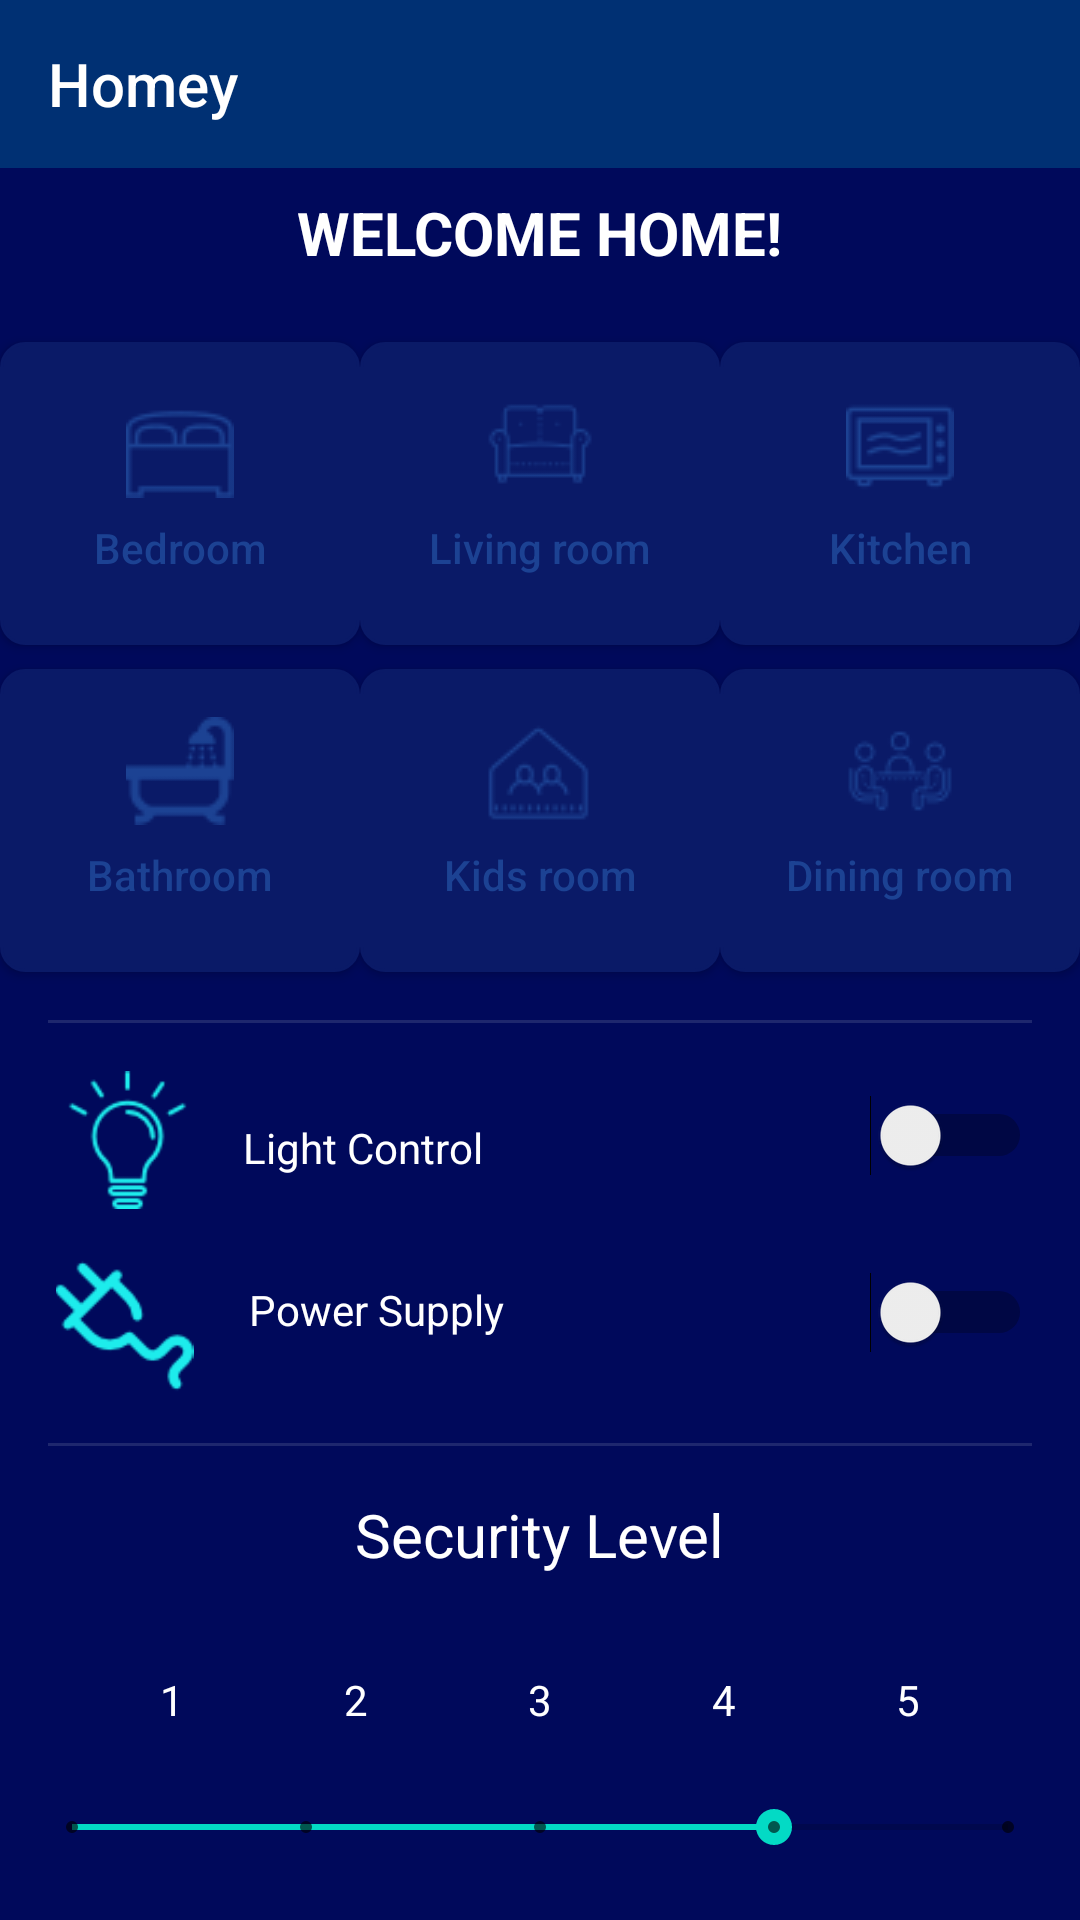

Icons on this 1080×1920 Android screen, each with the point to tap as [x,y]:
lightbulb: [127,1140]
plug: [125,1326]
